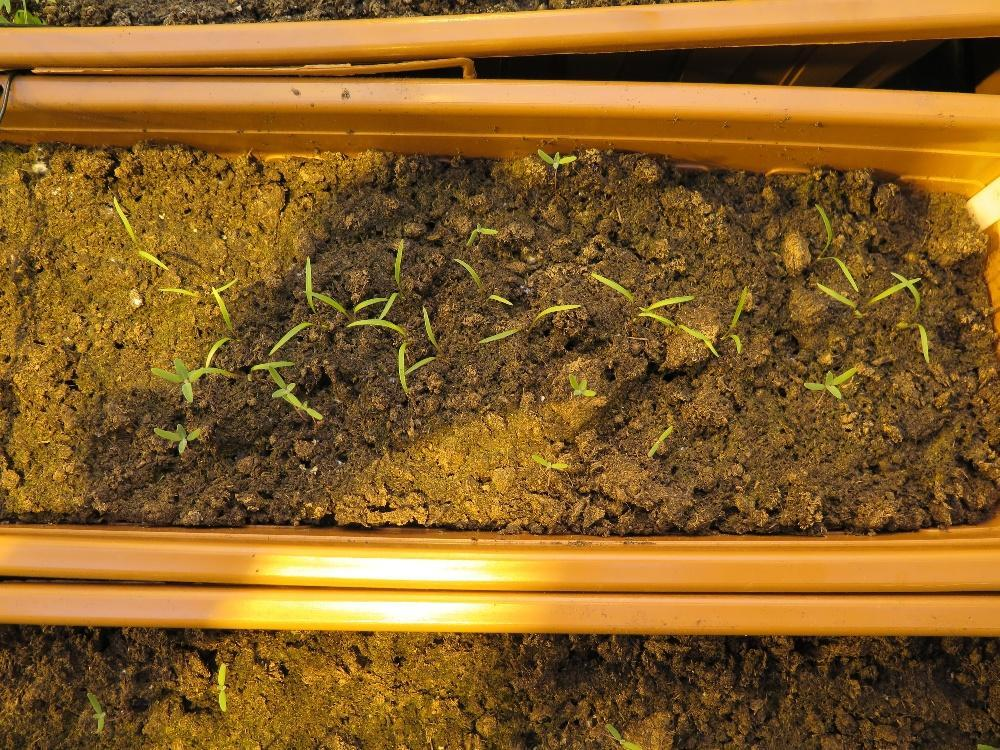crop: (111, 193, 170, 272), (452, 255, 513, 306), (725, 284, 747, 354)
weed: (800, 364, 856, 399), (151, 421, 200, 453), (646, 421, 674, 458), (464, 218, 497, 249), (535, 146, 576, 169), (84, 689, 104, 734), (567, 371, 596, 396), (528, 452, 568, 469), (215, 659, 227, 712)
